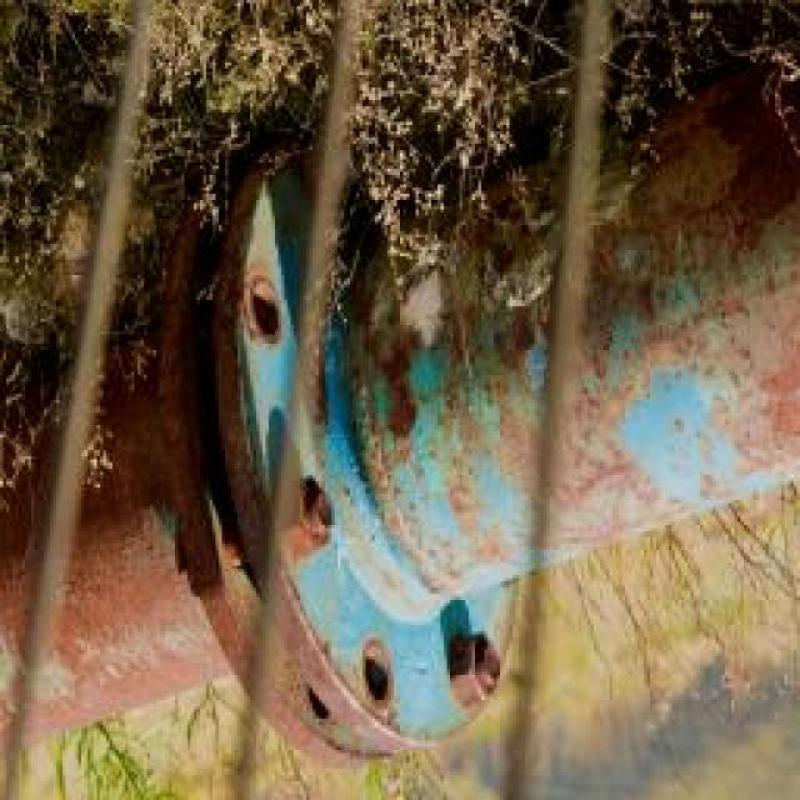corrosion: (17, 106, 783, 730)
